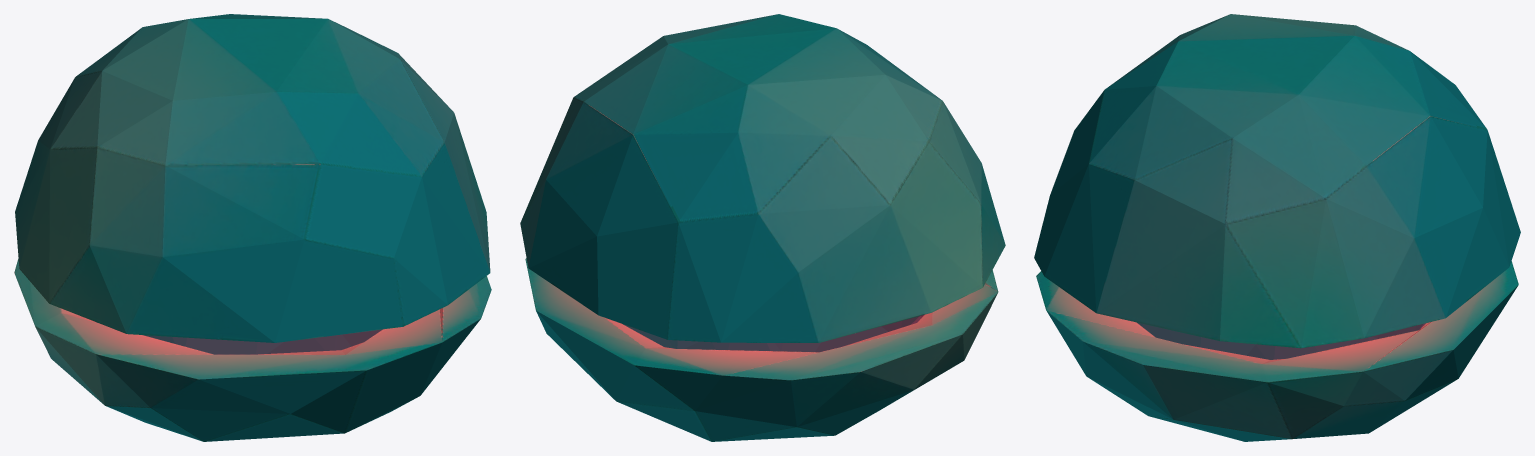
The model's file is power_pill.glb.
3 views of the same model, side by side, from view 1: azimuth 30°, elevation 25°; view 2: azimuth 150°, elevation 25°; view 3: azimuth 270°, elevation 25° (orthographic). The views are drawn at different scales.
Visible parts, largest first — view 1: power_pill_BAKED; view 2: power_pill_BAKED; view 3: power_pill_BAKED.
Part boxes in pixels (x1=…): power_pill_BAKED: x1=14, y1=14, x2=491, y2=441; power_pill_BAKED: x1=520, y1=14, x2=1005, y2=441; power_pill_BAKED: x1=1034, y1=14, x2=1520, y2=441.
Size of the model in its own units: 2.4 by 1.92 by 2.38.
2 materials, 2 textured.
